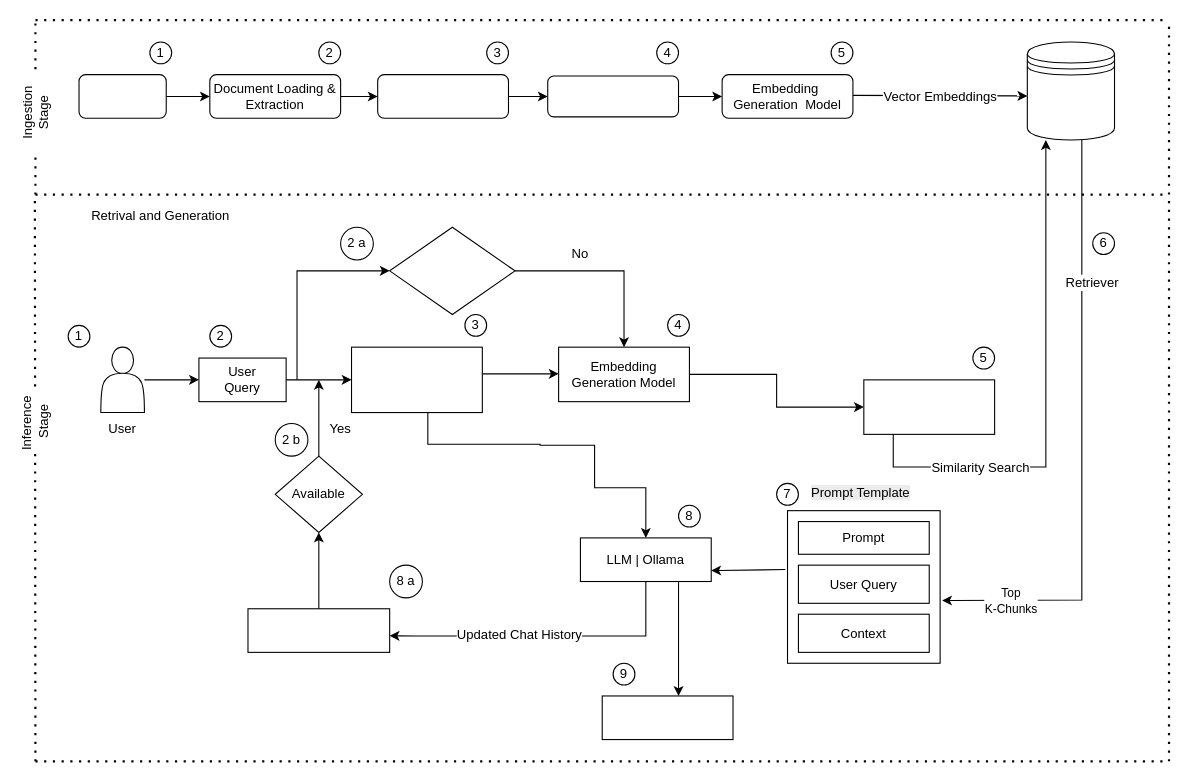
The diagram is 1189 pixels wide and 782 high, and some of its shapes have lost their labels. Each missing label, with the centre of its shape:
"Answer" belongs at pixel 667 717.
"Chat History Unavailable" belongs at pixel 452 270.
"Data Preprocessing" belongs at pixel 442 96.
"Pdf Documents" belongs at pixel 122 96.
"Query Embedding" belongs at pixel 929 406.
"Semantic Chunking" belongs at pixel 613 96.
"User Chat History" belongs at pixel 318 630.
"User Query + Chat History" belongs at pixel 416 379.
"Vector Database (Chroma DB)" belongs at pixel 1070 90.
